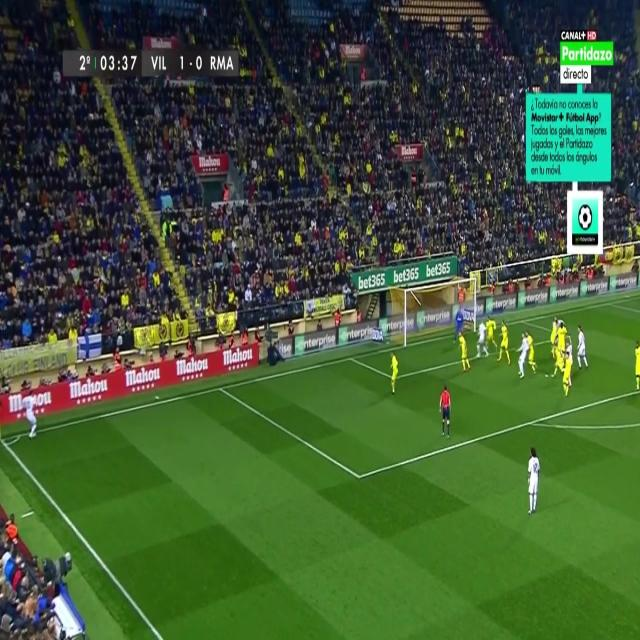Goalkeeper: (454, 304, 466, 341)
Player: (525, 444, 542, 518), (20, 389, 40, 443), (496, 319, 514, 369), (576, 321, 592, 374), (457, 332, 474, 377), (526, 330, 541, 376), (482, 312, 498, 355), (516, 331, 529, 382), (476, 320, 490, 363), (389, 349, 399, 398), (556, 320, 568, 356), (632, 338, 640, 392), (564, 352, 572, 401)
Referee: (437, 383, 453, 440)
